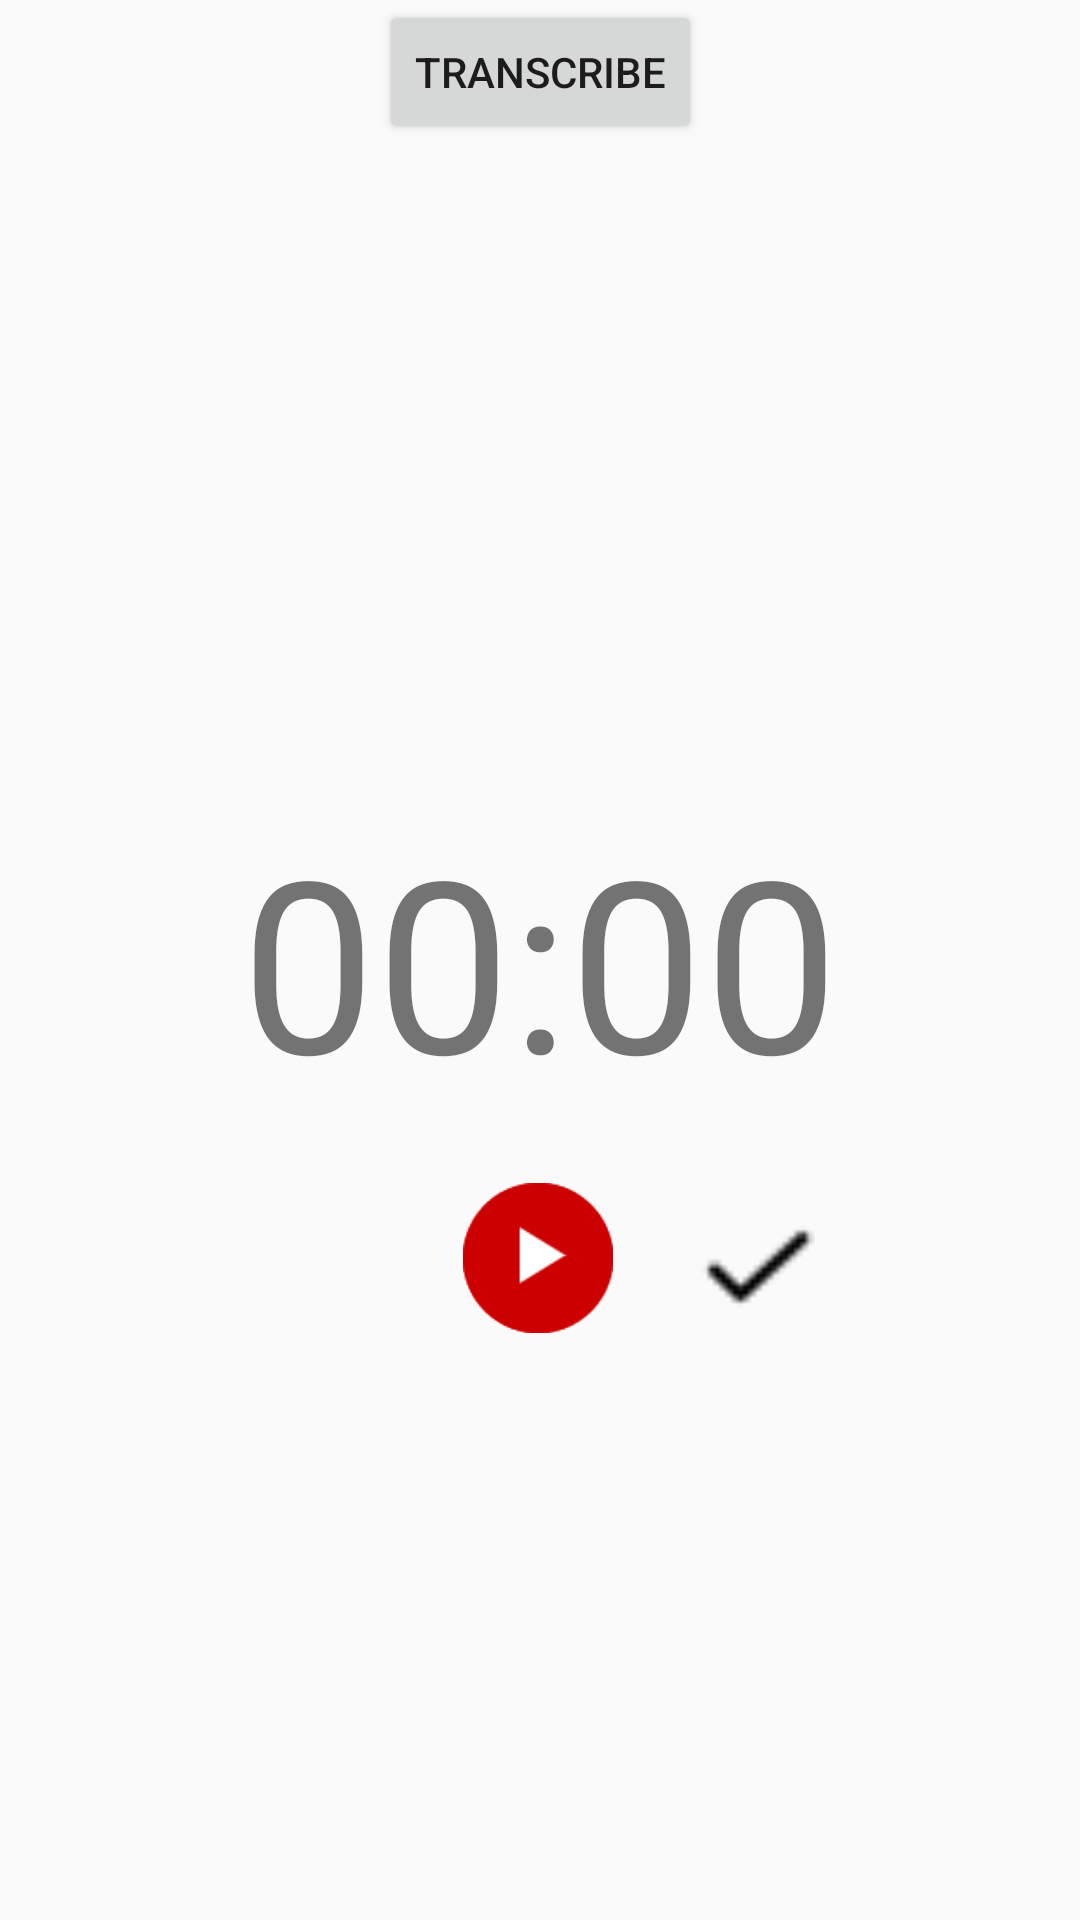

Where to tap for icons on this 1080px×1920px app screen, as point (x, y):
finish: point (759, 1267)
